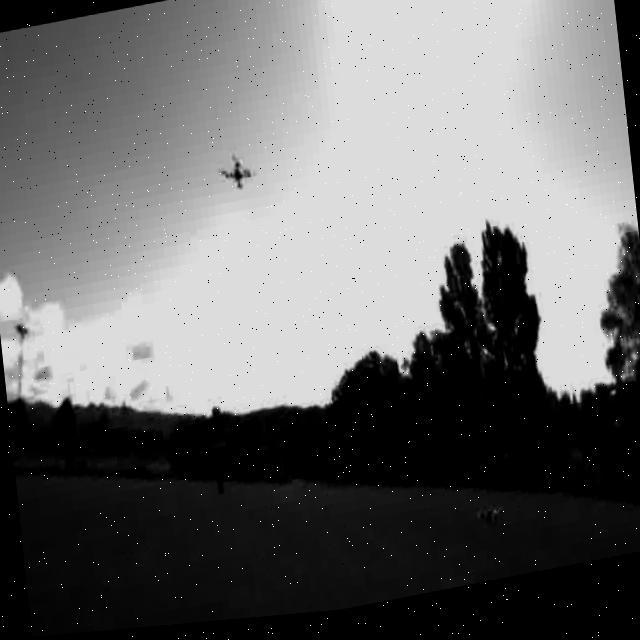drone: (199, 133, 267, 225)
